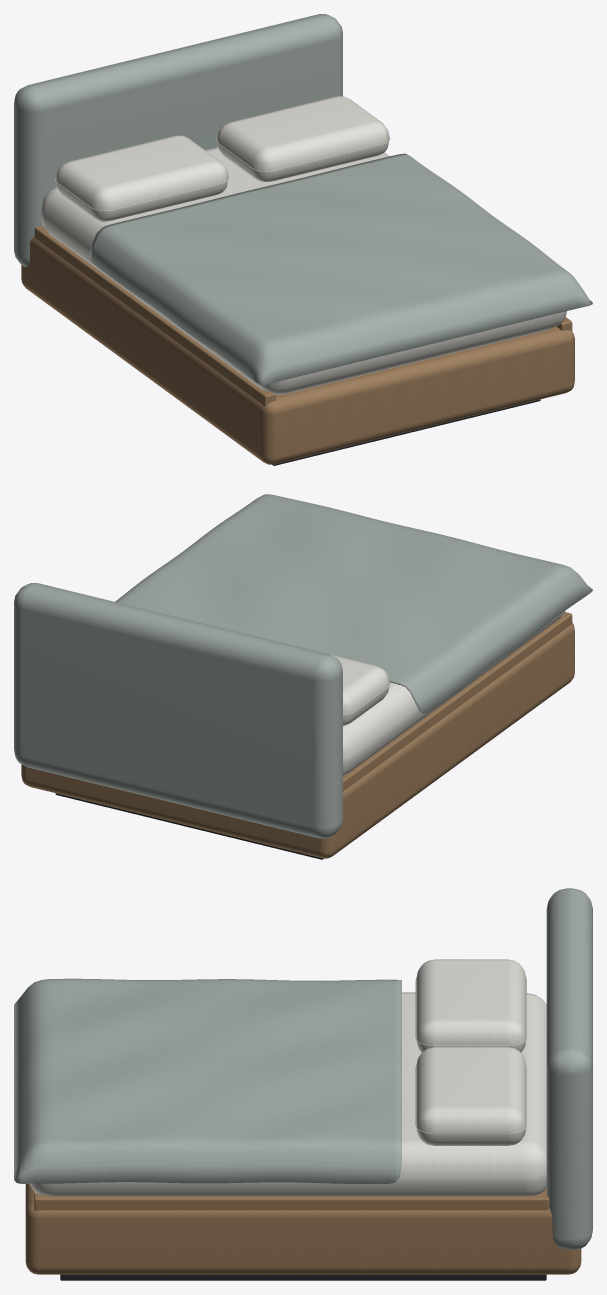
Rendered from original-bed.glb.
The picture shows the model from 3 angles, top to bottom: view 1: azimuth 30°, elevation 25°; view 2: azimuth 150°, elevation 25°; view 3: azimuth 270°, elevation 25°; orthographic projection. The views are drawn at different scales.
Parts seen in each view (by area): view 1: Draped cotton duvet, Platform, Upholstered headboard, Soft pillow, Soft pillow.001, Mattress, Platform side rail, Recessed bed plinth; view 2: Upholstered headboard, Draped cotton duvet, Platform, Mattress, Platform side rail, Soft pillow, Recessed bed plinth; view 3: Draped cotton duvet, Platform, Mattress, Upholstered headboard, Soft pillow.001, Soft pillow, Platform side rail.001, Recessed bed plinth.
Boxes of the visible parts, x1,y1,x2,y2 form: Draped cotton duvet: (89, 153, 592, 385); Platform: (21, 236, 574, 464); Upholstered headboard: (14, 14, 342, 266); Soft pillow: (56, 135, 228, 221); Soft pillow.001: (217, 96, 389, 181); Mattress: (41, 147, 566, 394); Platform side rail: (34, 226, 275, 406); Recessed bed plinth: (272, 399, 540, 465); Upholstered headboard: (14, 583, 342, 838); Draped cotton duvet: (115, 494, 592, 714); Platform: (21, 623, 574, 858); Mattress: (343, 610, 565, 775); Platform side rail: (343, 612, 572, 791); Soft pillow: (331, 655, 389, 725); Recessed bed plinth: (55, 793, 323, 859); Draped cotton duvet: (14, 978, 401, 1183); Platform: (25, 1184, 581, 1274); Mattress: (29, 992, 546, 1196); Upholstered headboard: (546, 888, 592, 1249); Soft pillow.001: (416, 1047, 526, 1145); Soft pillow: (416, 959, 526, 1052); Platform side rail.001: (34, 1193, 549, 1210); Recessed bed plinth: (60, 1274, 546, 1280).
Bounding box in the file's own units: 1.6 × 0.98 × 2.15.
4 materials, 3 textured.
